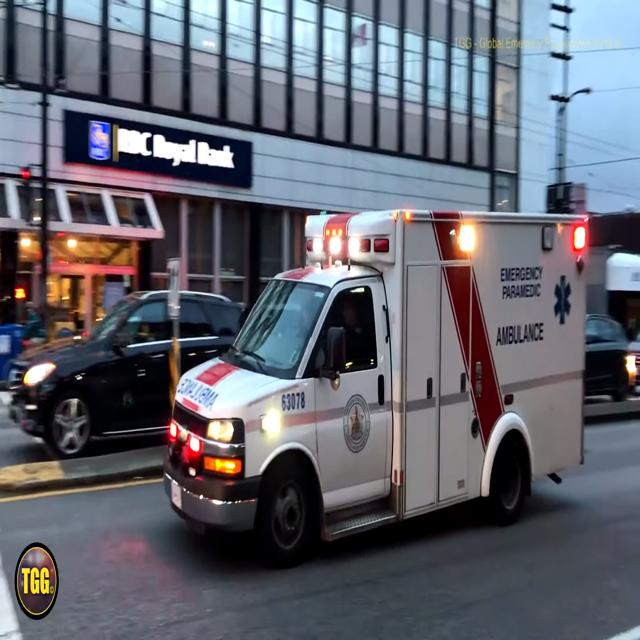emergency-vehicles: (137, 191, 595, 563)
